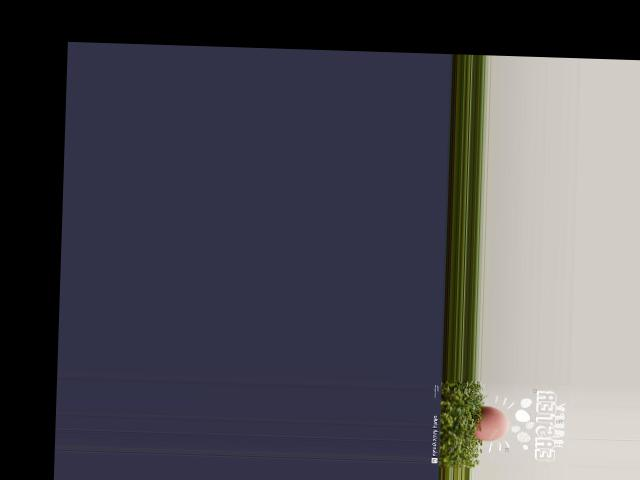egg: (474, 404, 509, 440)
